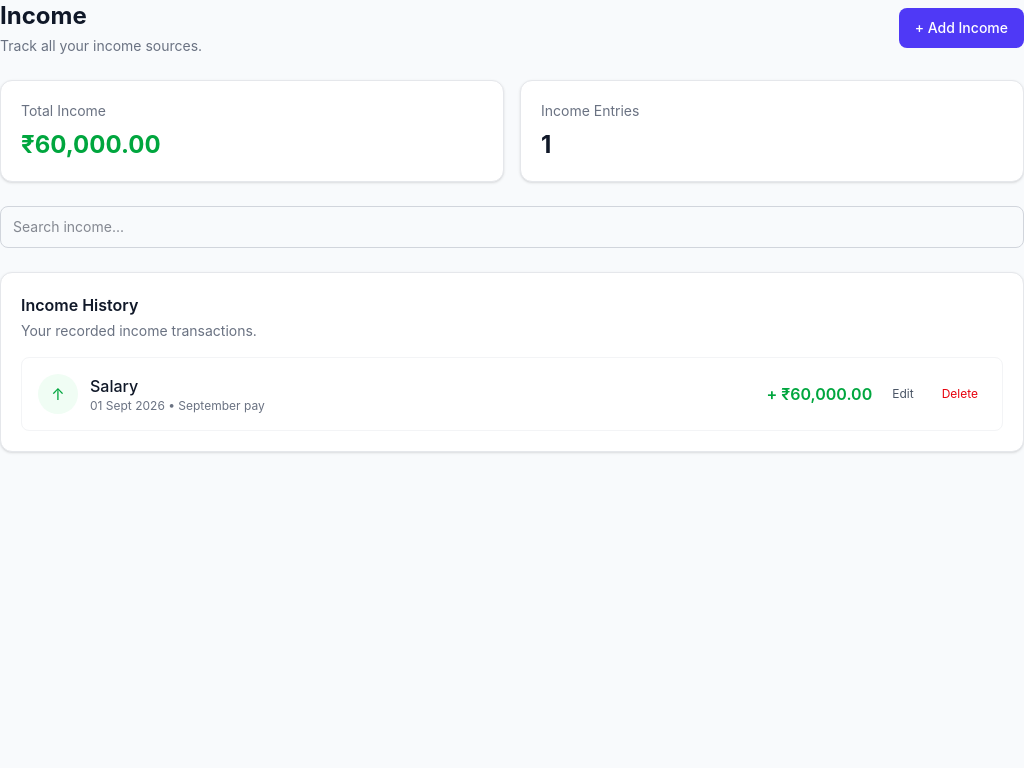
Scenario: Income page › opens an existing entry with a date the input can show
The image size is (1024, 768).
expect the text "Salary" is shown: met, box [90, 376, 138, 396]
Click the button "Edit" at (903, 394), box [884, 382, 922, 406]
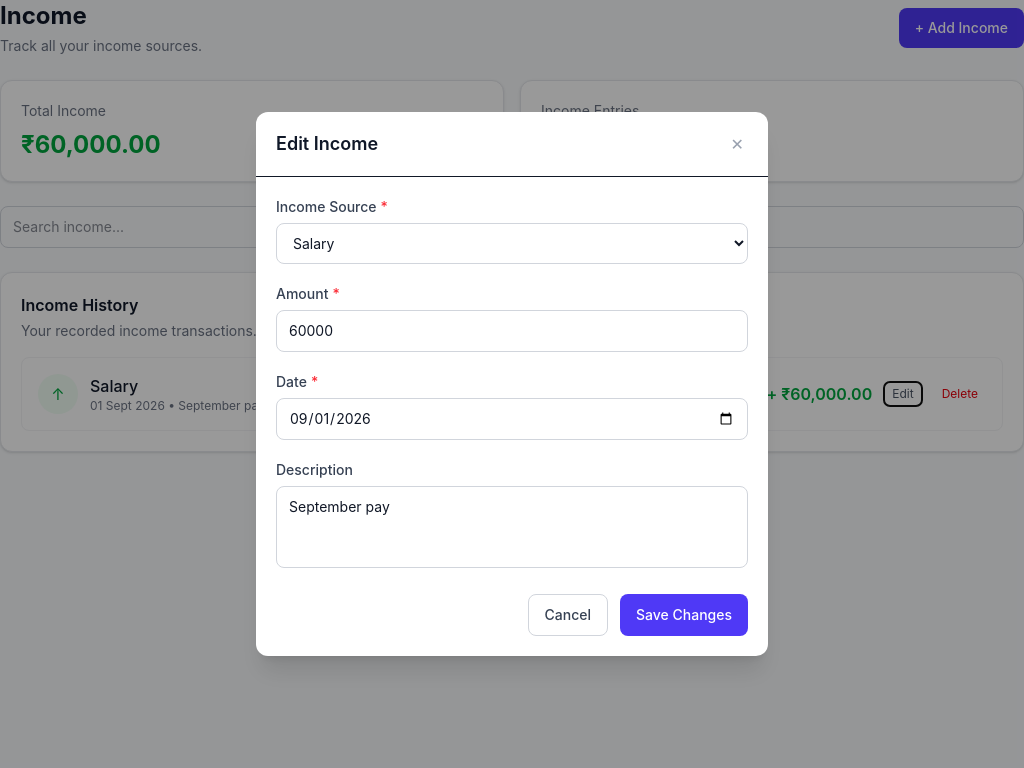
expect the date field labelled "Date*" holds "2026-09-01": met, box [276, 398, 748, 440]
